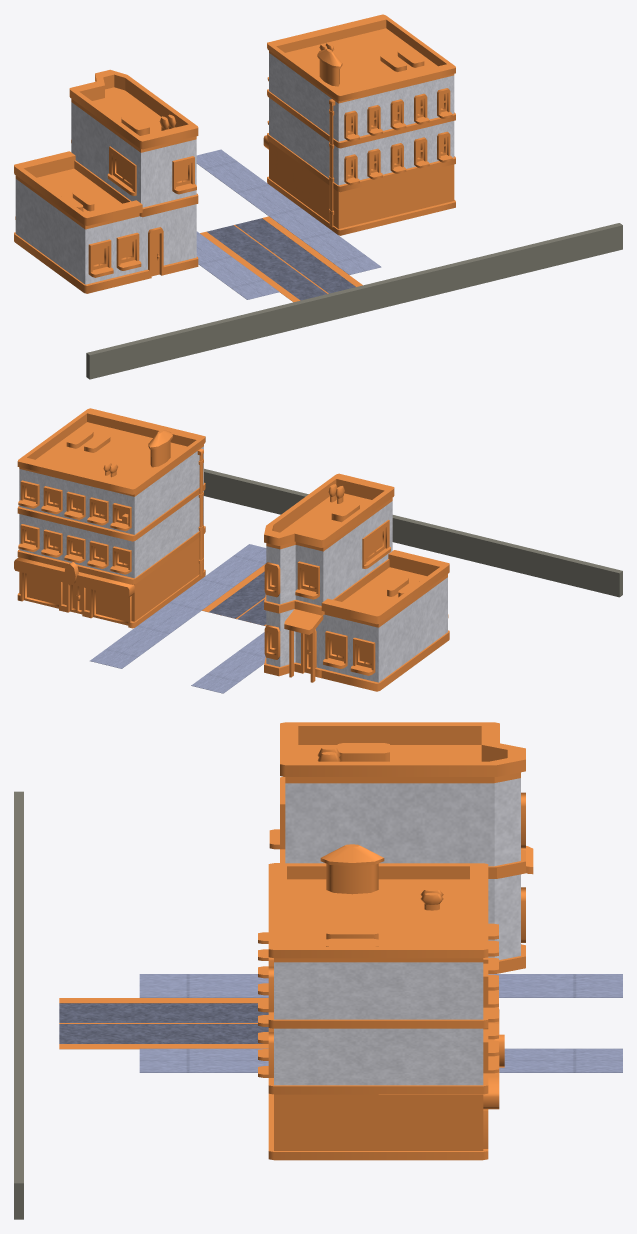
Rendered from Street-0.obj.
3 views of the same model, one above another, from view 1: azimuth 30°, elevation 25°; view 2: azimuth 150°, elevation 25°; view 3: azimuth 270°, elevation 25° (orthographic). The views are drawn at different scales.
Visible parts, largest first — view 1: surface3, surface2, surface11, surface7, surface5, surface4, surface6; view 2: surface3, surface2, surface11, surface7, surface5, surface4, surface6; view 3: surface3, surface2, surface7, surface5, surface11, surface4, surface6.
Boxes of the visible parts, bbox=[...] form: surface3: bbox=[14, 14, 455, 293]; surface2: bbox=[15, 53, 454, 284]; surface11: bbox=[86, 223, 622, 379]; surface7: bbox=[196, 149, 381, 299]; surface5: bbox=[214, 220, 348, 298]; surface4: bbox=[200, 216, 362, 302]; surface6: bbox=[207, 218, 355, 300]; surface3: bbox=[14, 408, 449, 691]; surface2: bbox=[19, 446, 447, 682]; surface11: bbox=[204, 468, 622, 597]; surface7: bbox=[90, 544, 266, 693]; surface5: bbox=[216, 578, 266, 623]; surface4: bbox=[202, 564, 266, 626]; surface6: bbox=[209, 571, 266, 625]; surface3: bbox=[258, 722, 533, 1160]; surface2: bbox=[274, 778, 520, 1085]; surface7: bbox=[139, 974, 622, 1072]; surface5: bbox=[59, 1008, 268, 1038]; surface11: bbox=[14, 791, 23, 1219]; surface4: bbox=[59, 998, 268, 1049]; surface6: bbox=[59, 1003, 262, 1043].
Size of the model in its own units: 46 by 13.23 by 30.25.
